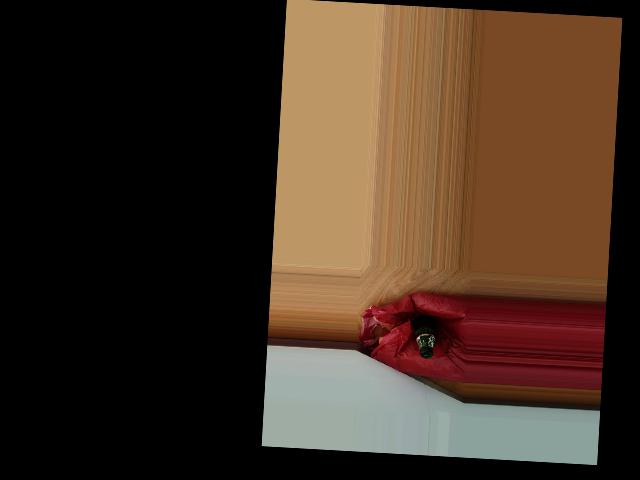beer: (411, 313, 439, 358)
